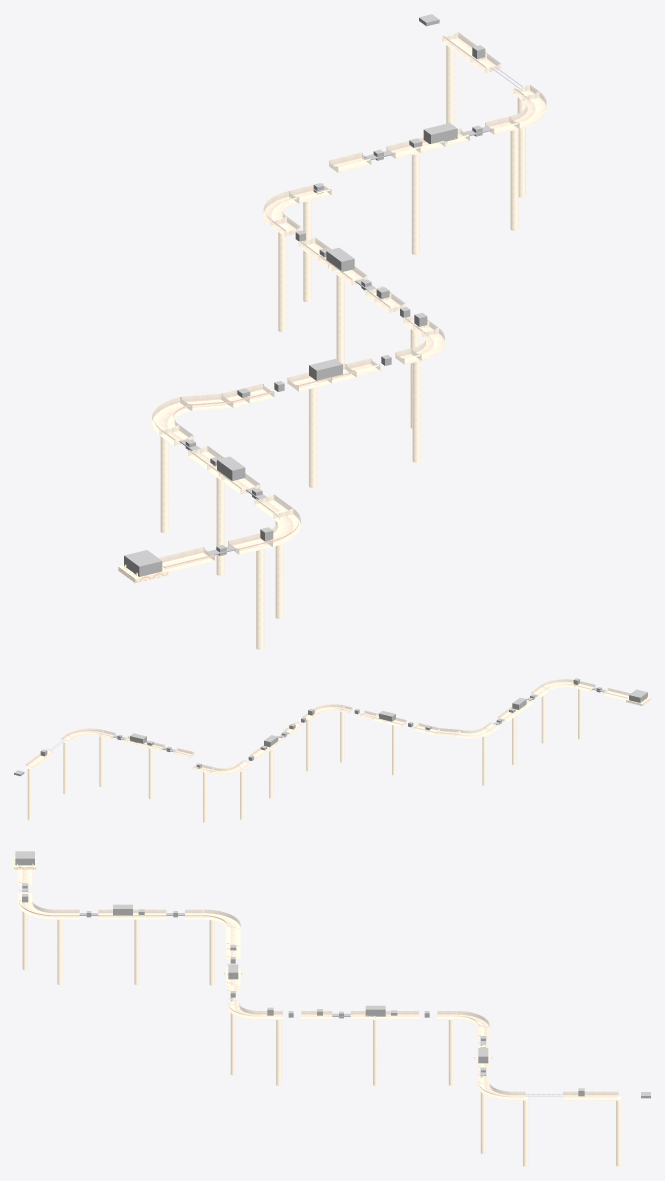
The model's file is level.gltf.
The picture shows the model from 3 angles, top to bottom: view 1: azimuth 30°, elevation 25°; view 2: azimuth 150°, elevation 25°; view 3: azimuth 270°, elevation 25°; orthographic projection. The views are drawn at different scales.
Parts seen in each view (by area): view 1: Column_001, Column_005, Column_011, Column_012, Column_009, Column_006, Floor_009; view 2: Floor_003, Floor_009, Floor_033, Column_013, Column_007, Column_014, Column_004, Column_011, Column_012, Column_006, Column_002, Column_008 (+1 smaller); view 3: no part large enough to name.
Part boxes in pixels (x1,y1,x2,y2): Column_001: (256,542,264,649); Column_005: (308,380,317,487); Column_011: (411,148,420,254); Column_012: (510,125,518,230); Column_009: (277,224,287,332); Column_006: (412,357,421,462); Floor_009: (152,397,192,435); Floor_003: (540,679,576,690); Floor_009: (454,727,492,738); Floor_033: (66,728,103,738); Column_013: (62,740,67,794); Column_007: (306,718,310,771); Column_014: (27,766,31,820); Column_004: (482,732,486,785); Column_011: (148,746,152,799); Column_012: (98,734,103,787); Column_006: (340,710,344,762); Column_002: (541,690,545,743); Column_008: (269,745,273,798).
Bounding box in the file's own units: 477 × 80.5 × 513.
Materials: 7 (7 with a texture image).
